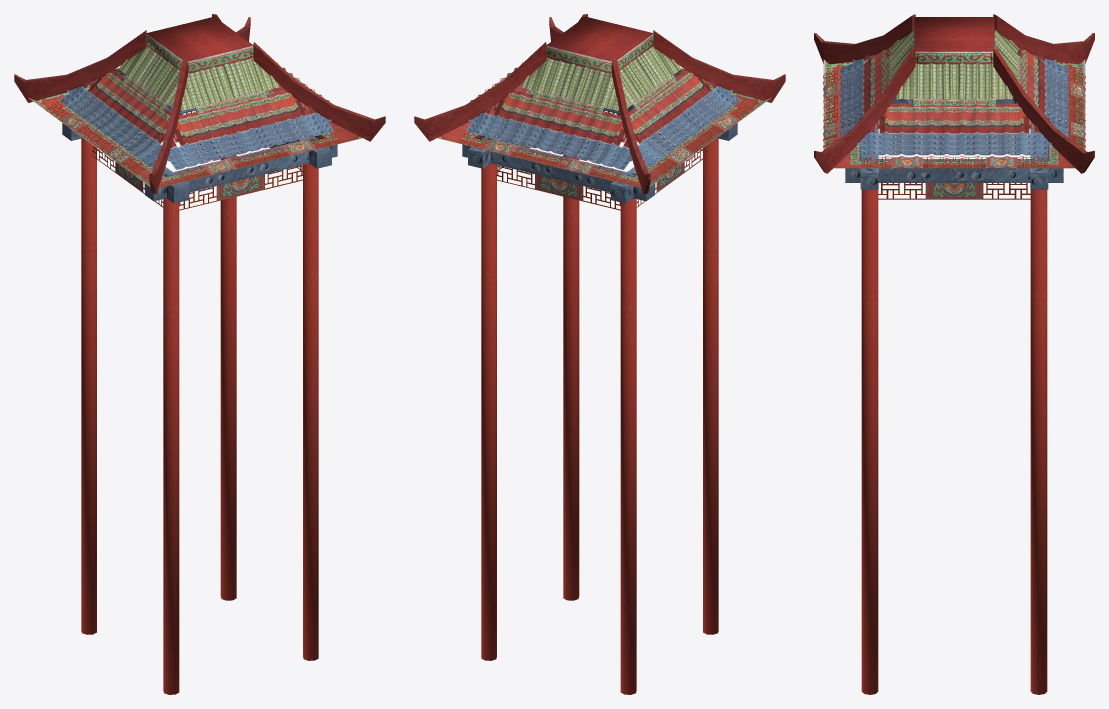
File: tempio.obj
3 views of the same model, side by side, from view 1: azimuth 30°, elevation 25°; view 2: azimuth 150°, elevation 25°; view 3: azimuth 270°, elevation 25° (orthographic). The views are drawn at different scales.
Parts seen in each view (by area): view 1: tempio_tempio_angoliTetto.001; view 2: tempio_tempio_angoliTetto.001; view 3: tempio_tempio_angoliTetto.001.
Part boxes in pixels (x1,y1,x2,y2): tempio_tempio_angoliTetto.001: [14, 14, 385, 694]; tempio_tempio_angoliTetto.001: [414, 14, 785, 694]; tempio_tempio_angoliTetto.001: [814, 14, 1094, 694].
Size of the model in its own units: 9.1 by 22.33 by 9.1.
